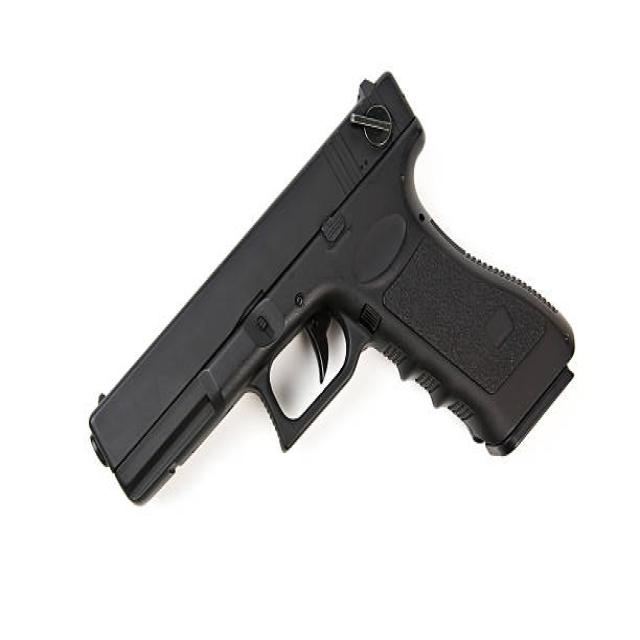pistol: (81, 52, 579, 522)
